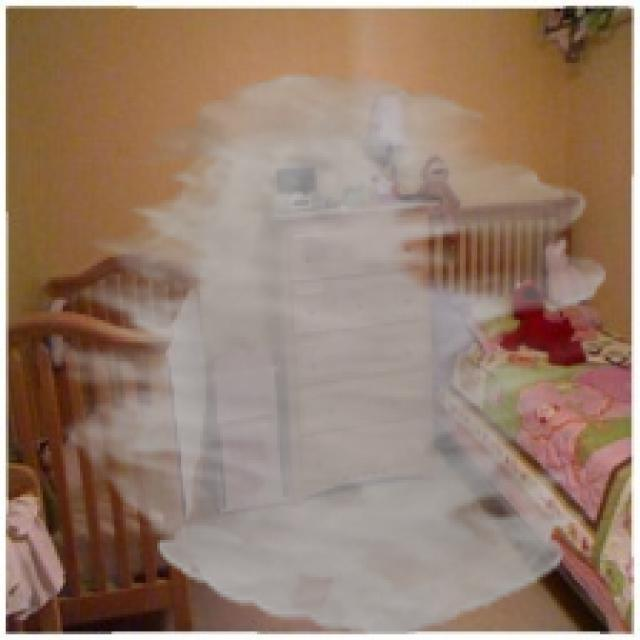Smoke: (57, 71, 606, 634)
